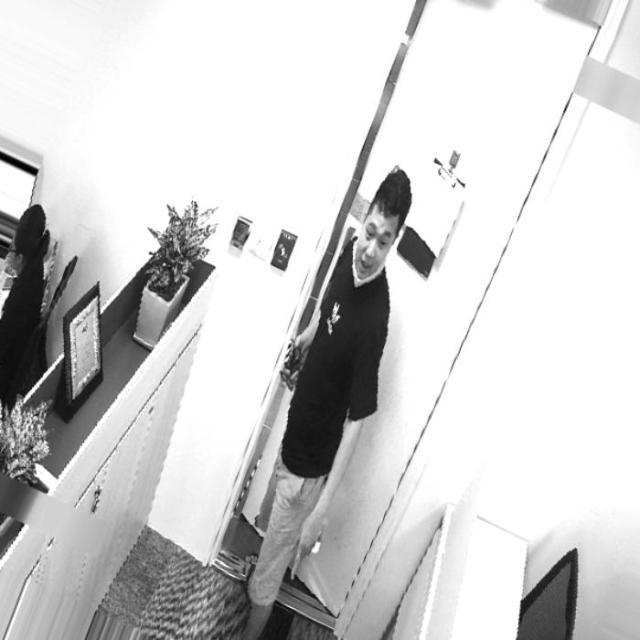hairnet: (350, 220, 386, 288)
